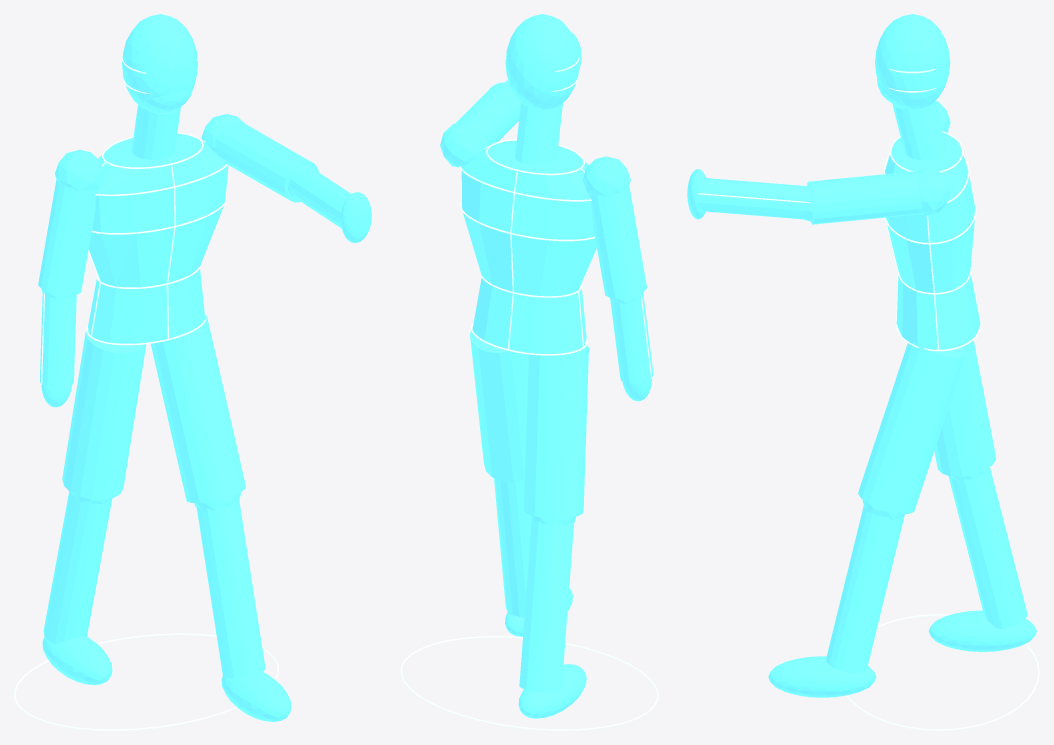
Rendered from ghost-reaching.glb.
The picture shows the model from 3 angles, left to right: view 1: azimuth 30°, elevation 25°; view 2: azimuth 150°, elevation 25°; view 3: azimuth 270°, elevation 25°; orthographic projection. The views are drawn at different scales.
Visible parts, largest first — view 1: 001_torso, 026_thigh, 009_thigh, 028_shin, 011_shin, 003_head, 005_upper_arm, 022_upper_arm, 007_forearm, 034_foot, 017_foot, 002_neck (+5 smaller); view 2: 001_torso, 009_thigh, 011_shin, 026_thigh, 003_head, 005_upper_arm, 028_shin, 007_forearm, 002_neck, 022_upper_arm, 017_foot, 030_shoulder (+2 smaller); view 3: 001_torso, 026_thigh, 028_shin, 011_shin, 003_head, 009_thigh, 022_upper_arm, 024_forearm, 034_foot, 017_foot, 002_neck, 030_shoulder (+1 smaller).
Boxes of the visible parts, left/top/right/bottom form: 001_torso: left=88, top=133, right=228, bottom=343; 026_thigh: left=151, top=314, right=245, bottom=502; 009_thigh: left=62, top=329, right=146, bottom=499; 028_shin: left=196, top=500, right=265, bottom=678; 011_shin: left=43, top=491, right=112, bottom=644; 003_head: left=122, top=14, right=198, bottom=112; 005_upper_arm: left=38, top=179, right=99, bottom=295; 022_upper_arm: left=215, top=120, right=318, bottom=202; 007_forearm: left=39, top=292, right=76, bottom=387; 034_foot: left=221, top=672, right=291, bottom=721; 017_foot: left=42, top=636, right=112, bottom=685; 002_neck: left=132, top=105, right=180, bottom=159; 001_torso: left=461, top=140, right=596, bottom=353; 009_thigh: left=523, top=344, right=588, bottom=518; 011_shin: left=519, top=518, right=573, bottom=692; 026_thigh: left=470, top=326, right=528, bottom=482; 003_head: left=505, top=14, right=579, bottom=109; 005_upper_arm: left=587, top=185, right=646, bottom=298; 028_shin: left=494, top=478, right=531, bottom=617; 007_forearm: left=610, top=294, right=653, bottom=384; 002_neck: left=515, top=103, right=562, bottom=165; 022_upper_arm: left=455, top=82, right=521, bottom=146; 017_foot: left=518, top=664, right=586, bottom=718; 030_shoulder: left=440, top=122, right=487, bottom=167; 001_torso: left=885, top=132, right=980, bottom=349; 026_thigh: left=858, top=341, right=966, bottom=513; 028_shin: left=826, top=505, right=904, bottom=673; 011_shin: left=948, top=467, right=1027, bottom=628; 003_head: left=875, top=14, right=950, bottom=109; 009_thigh: left=934, top=340, right=995, bottom=476; 022_upper_arm: left=807, top=171, right=922, bottom=224; 024_forearm: left=697, top=178, right=806, bottom=219; 034_foot: left=768, top=656, right=876, bottom=697; 017_foot: left=928, top=610, right=1036, bottom=651; 002_neck: left=892, top=102, right=946, bottom=160; 030_shoulder: left=915, top=168, right=950, bottom=215.
Size of the model in its own units: 0.684 by 1.81 by 0.879.
